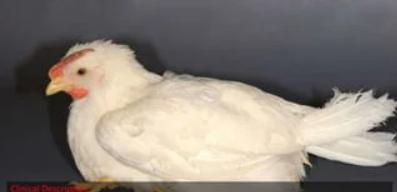AbNormal: (45, 38, 397, 191)
